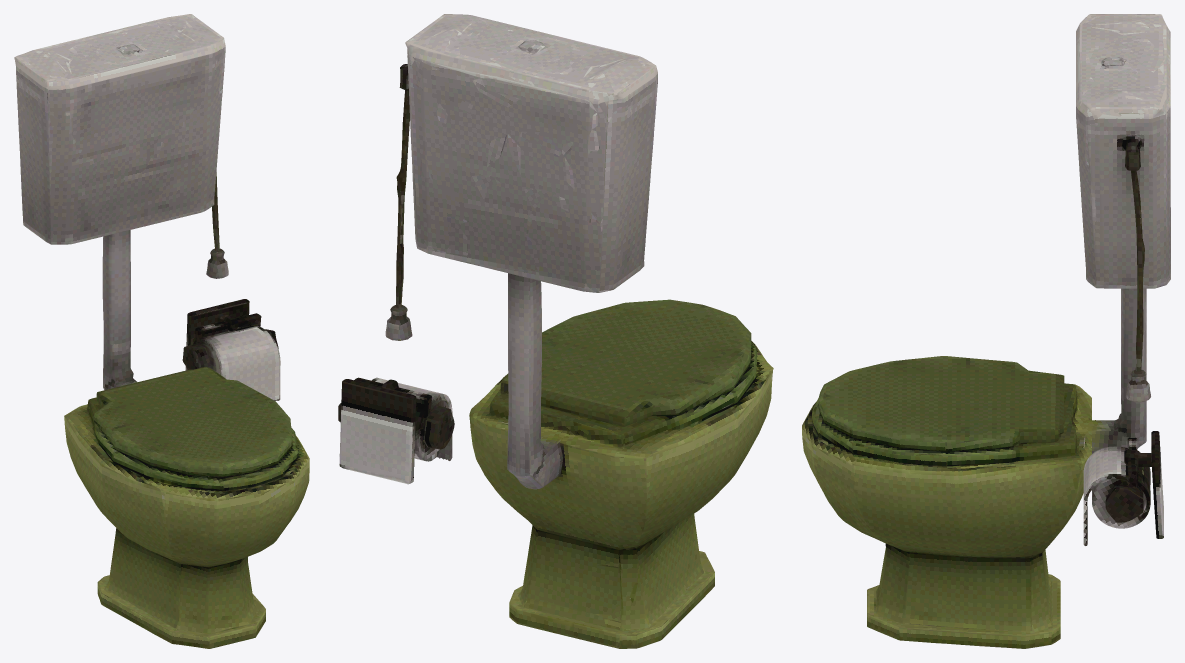
File: toilet_psx.glb
3 views of the same model, side by side, from view 1: azimuth 30°, elevation 25°; view 2: azimuth 150°, elevation 25°; view 3: azimuth 270°, elevation 25° (orthographic). The views are drawn at different scales.
Parts seen in each view (by area): view 1: toilet_psx; view 2: toilet_psx; view 3: toilet_psx.
Boxes of the visible parts, x1,y1,x2,y2 form: toilet_psx: (14,14,309,648); toilet_psx: (338,14,773,648); toilet_psx: (802,14,1170,648).
Size of the model in its own units: 0.495 by 0.9759 by 0.5822.
1 material, 1 textured.
